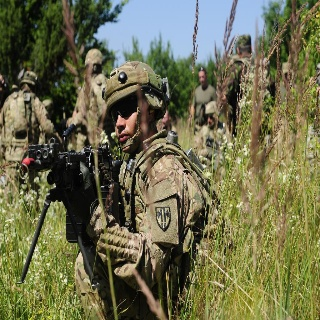rifle: (17, 124, 120, 286)
